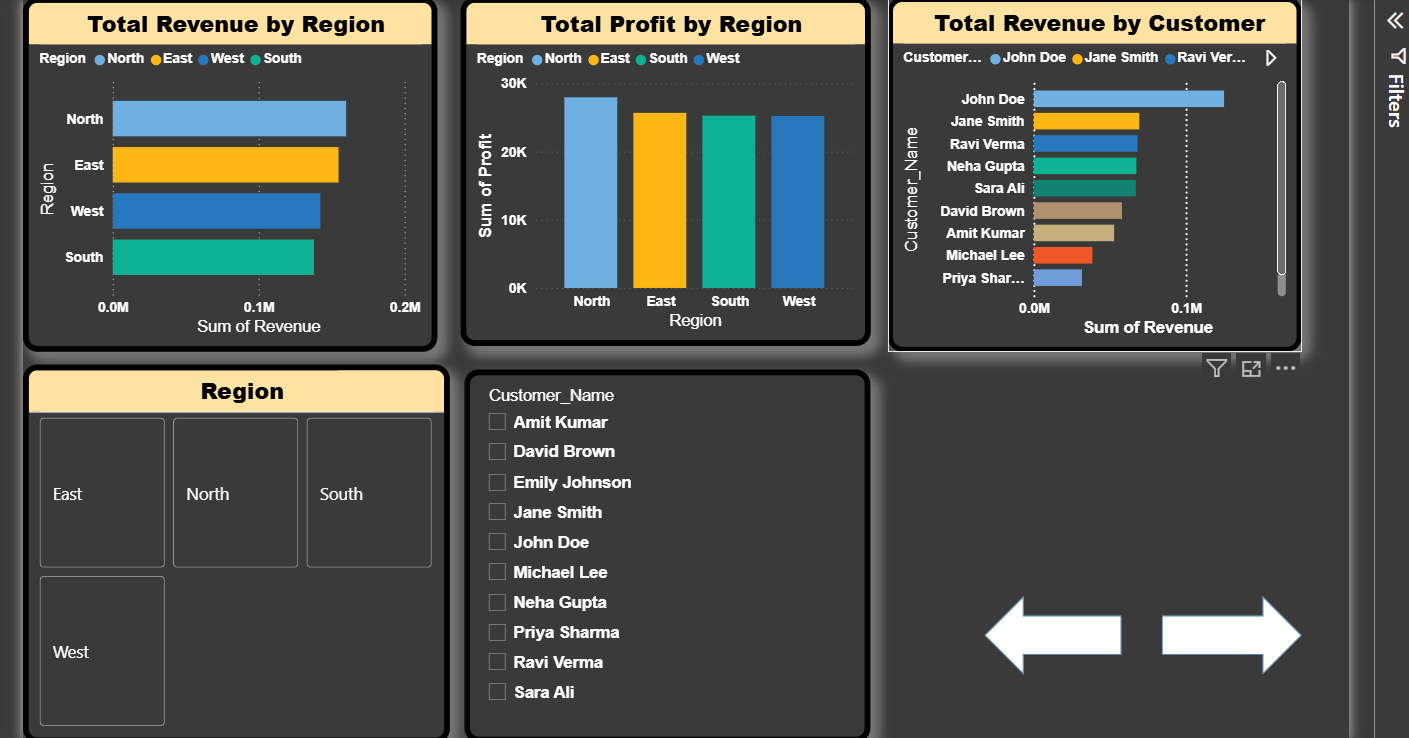

What the dashboard file says about the page in this screenshot:
{"tool":"powerbi","page":{"name":"Customer & regional insights","canvas":[1280,720],"ordinal":2},"visuals":[{"type":"barChart","title":"Total Revenue by Region","fields":{"Category":["Amazon_Sales_Performance.Region"],"Y":["Sum(Amazon_Sales_Performance.Revenue)"],"Series":["Amazon_Sales_Performance.Region"]},"box":[0,0,400.3,342.7],"z":0},{"type":"barChart","title":"Total Revenue by Customer","fields":{"Y":["Sum(Amazon_Sales_Performance.Revenue)"],"Category":["Amazon_Sales_Performance.Customer_Name"],"Series":["Amazon_Sales_Performance.Customer_Name"]},"box":[835.2,0,398.9,342.7],"z":1000},{"type":"columnChart","title":"Total Profit by Region","fields":{"Category":["Amazon_Sales_Performance.Region"],"Y":["Sum(Amazon_Sales_Performance.Profit)"],"Series":["Amazon_Sales_Performance.Region"]},"box":[421.9,0,396,337],"z":2000},{"type":"slicer","fields":{"Values":["Amazon_Sales_Performance.Customer_Name"]},"box":[426.2,360,391.7,360],"z":3000},{"type":"advancedSlicerVisual","fields":{"Values":["Amazon_Sales_Performance.Region"]},"box":[0,354.2,411.8,365.8],"z":4000},{"type":"shape","box":[927.4,577.4,132.5,76.3],"z":4001},{"type":"shape","box":[1098.7,577.4,135.4,76.3],"z":4002}]}

Visuals, with their boxes on the page's 1280x720 design canvas (x1, y1, x2, y2). These are canvas units, not pixel positions in the 1409x738 screenshot, which may show the page scaled, cropped or inside an application window:
"Total Revenue by Region" barChart: BBox(0, 0, 400, 343)
"Total Revenue by Customer" barChart: BBox(835, 0, 1234, 343)
"Total Profit by Region" columnChart: BBox(422, 0, 818, 337)
slicer - Amazon_Sales_Performance.Customer_Name: BBox(426, 360, 818, 720)
advancedSlicerVisual - Amazon_Sales_Performance.Region: BBox(0, 354, 412, 720)
shape: BBox(927, 577, 1060, 654)
shape: BBox(1099, 577, 1234, 654)
